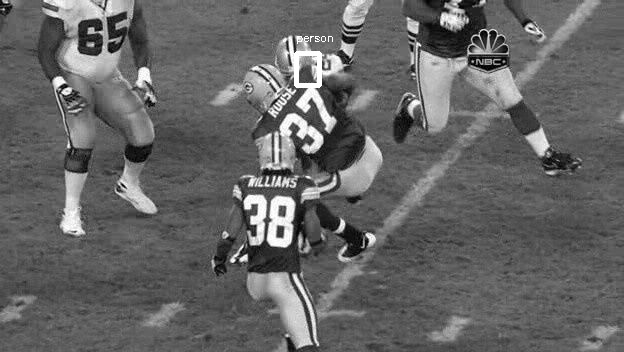person: (279, 40, 311, 81), (278, 40, 310, 81), (280, 40, 312, 81), (279, 39, 311, 80), (279, 41, 311, 82)
target_negative: (119, 109, 612, 318), (247, 132, 536, 285), (454, 56, 561, 315), (137, 210, 362, 275), (357, 289, 584, 340), (350, 228, 407, 246)
